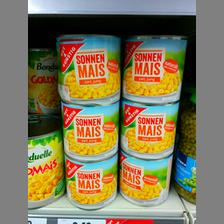Mais: (120, 34, 188, 106), (53, 31, 120, 101), (119, 98, 180, 158), (59, 100, 119, 158), (117, 148, 173, 208), (26, 114, 61, 208), (62, 154, 118, 210)
